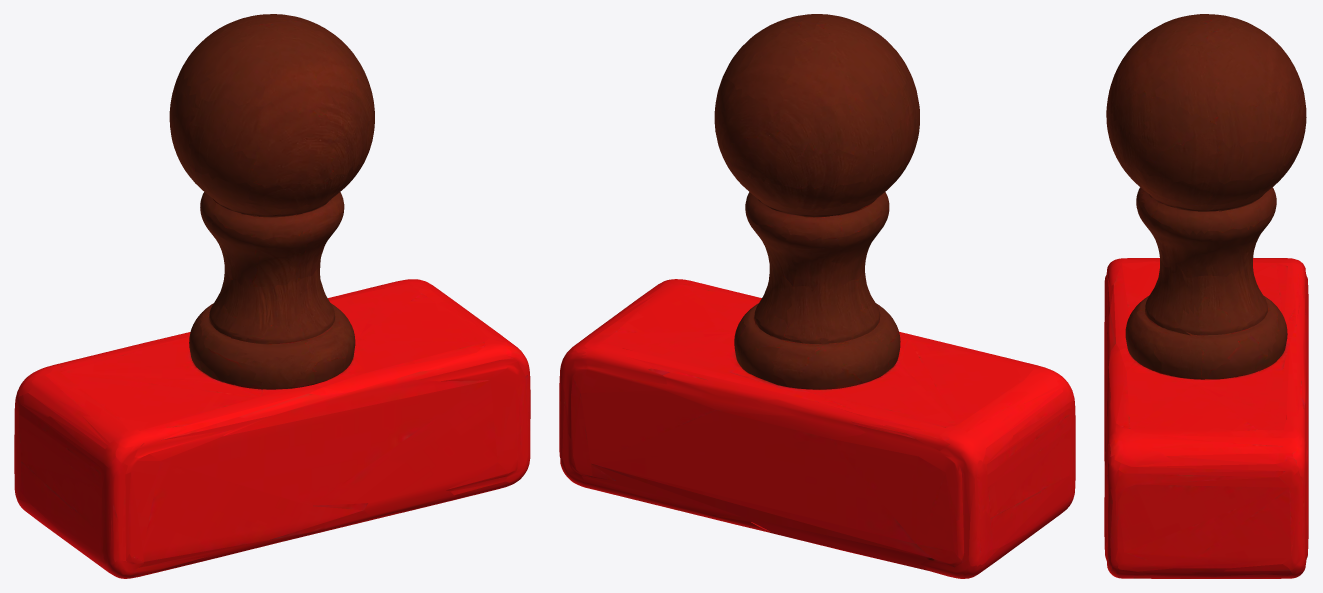
The model's file is carimbo_bloqueado.glb.
3 views of the same model, side by side, from view 1: azimuth 30°, elevation 25°; view 2: azimuth 150°, elevation 25°; view 3: azimuth 270°, elevation 25° (orthographic). The views are drawn at different scales.
Visible parts, largest first — view 1: output_unwrapped; view 2: output_unwrapped; view 3: output_unwrapped.
Boxes of the visible parts, x1,y1,x2,y2 form: output_unwrapped: [14, 14, 530, 578]; output_unwrapped: [559, 14, 1075, 578]; output_unwrapped: [1104, 14, 1308, 578].
Bounding box in the file's own units: 1.77 × 1.9 × 0.7583.
1 material, 1 textured.
